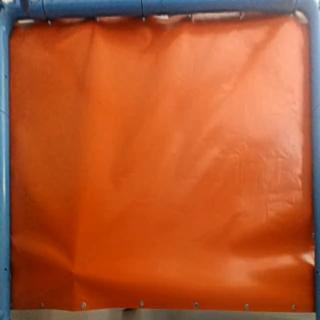Hit-hRxx: (66, 264, 80, 276)
